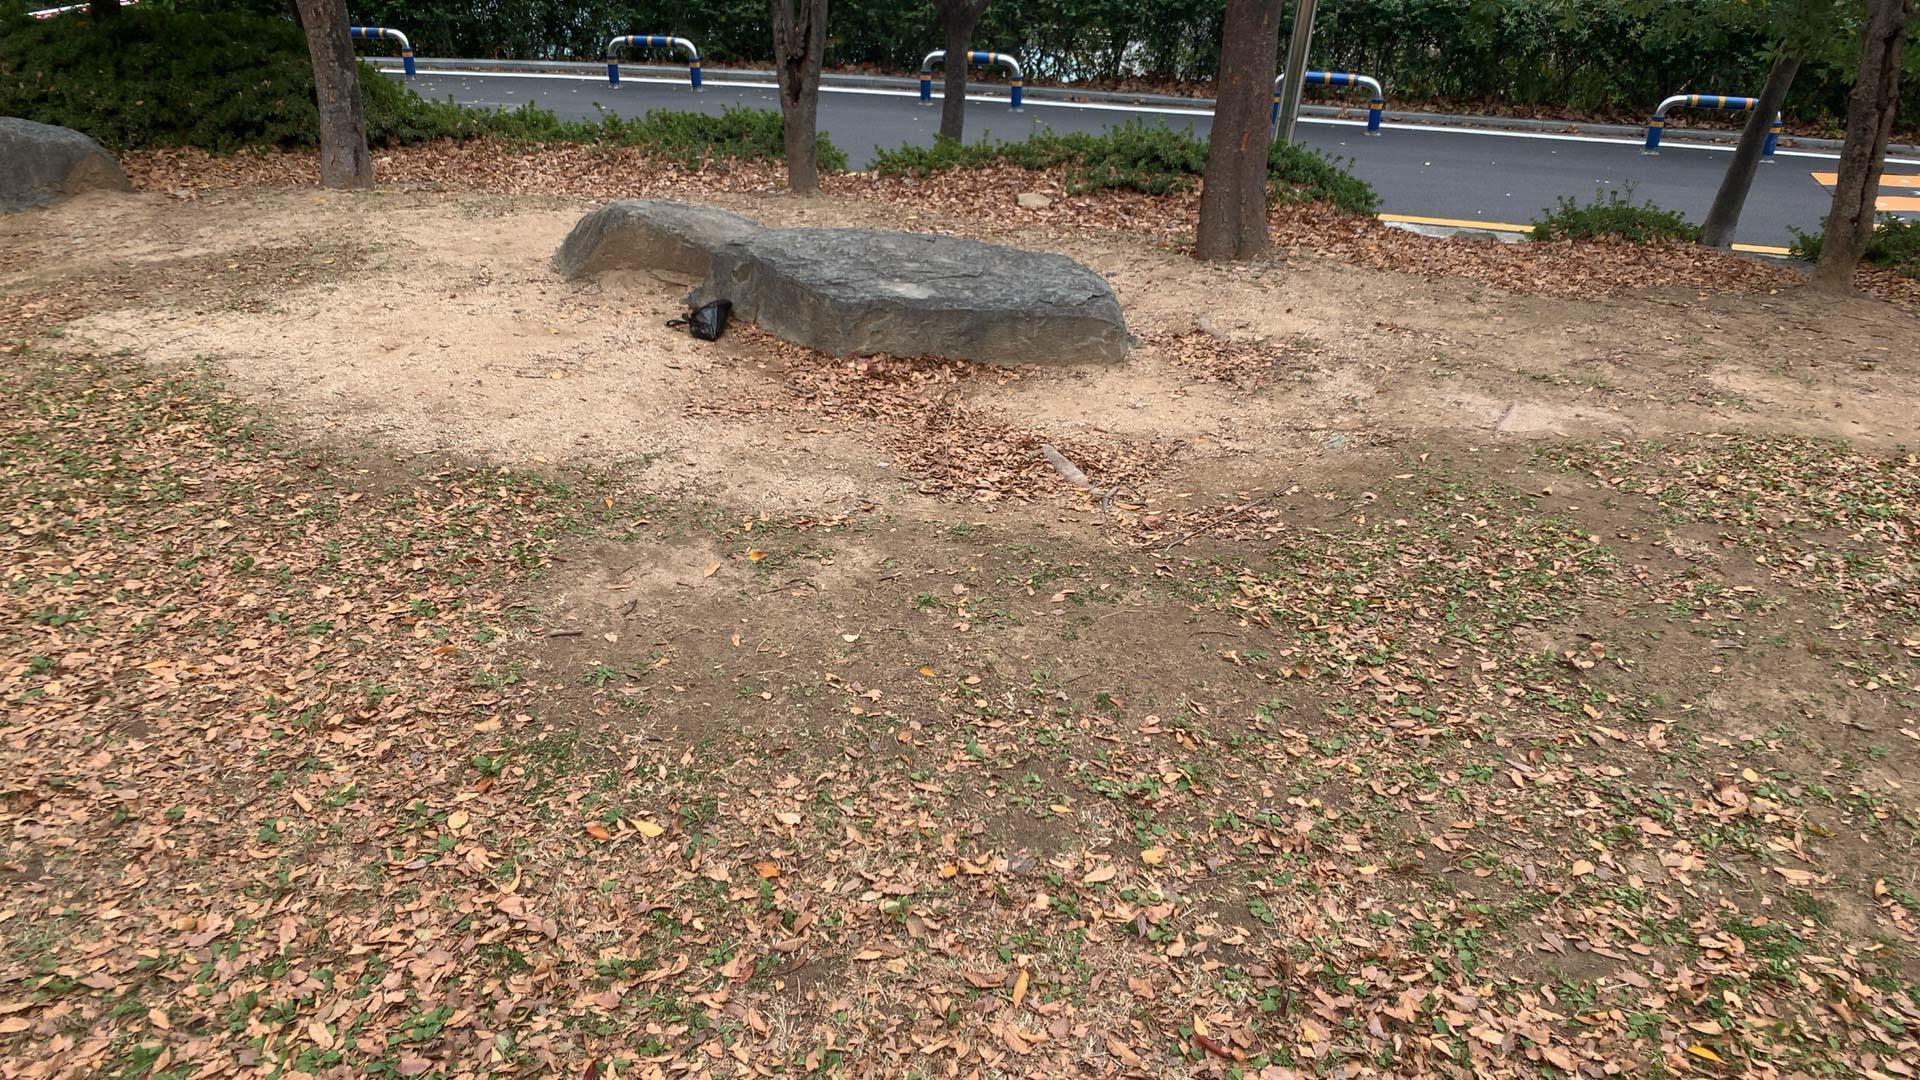black_bag: (663, 291, 735, 343)
